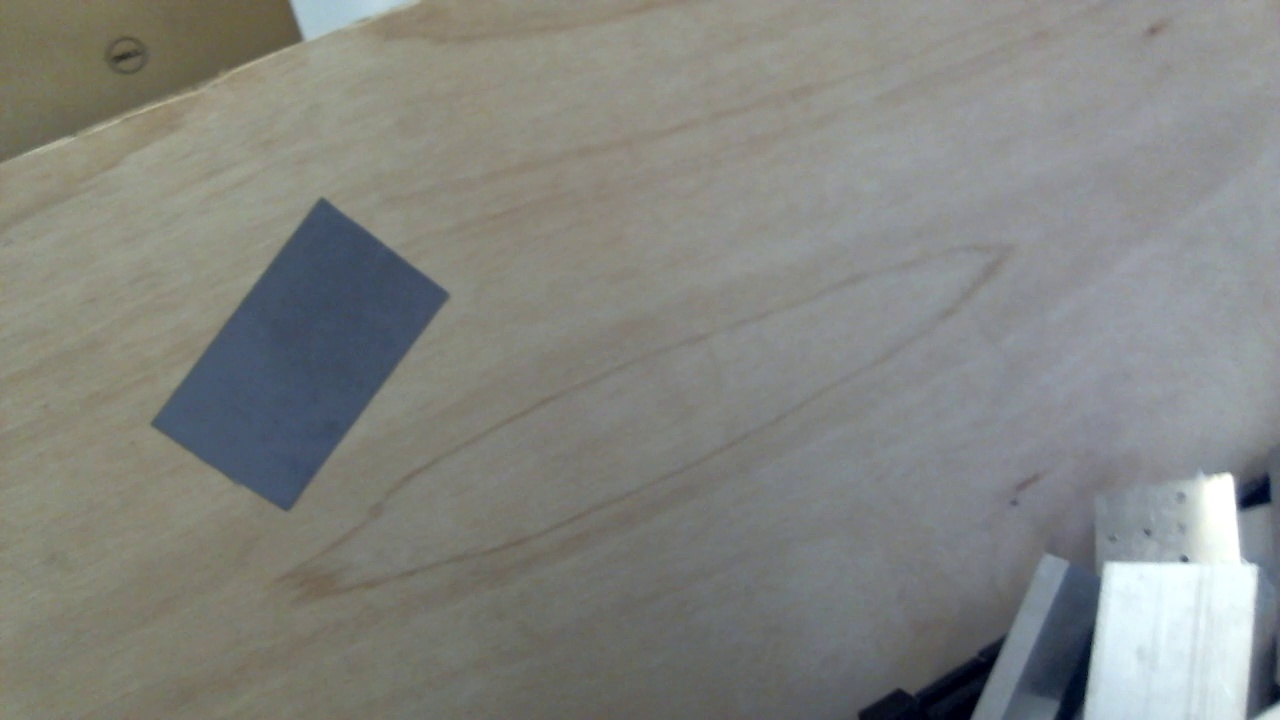Tape: (148, 198, 454, 517)
